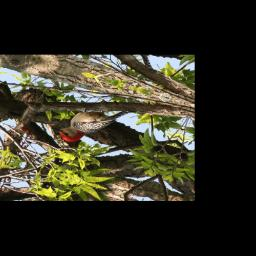Woodpecker: (45, 92, 135, 156)
